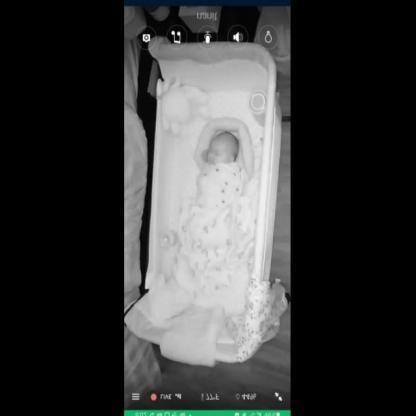baby: (203, 133, 239, 165)
